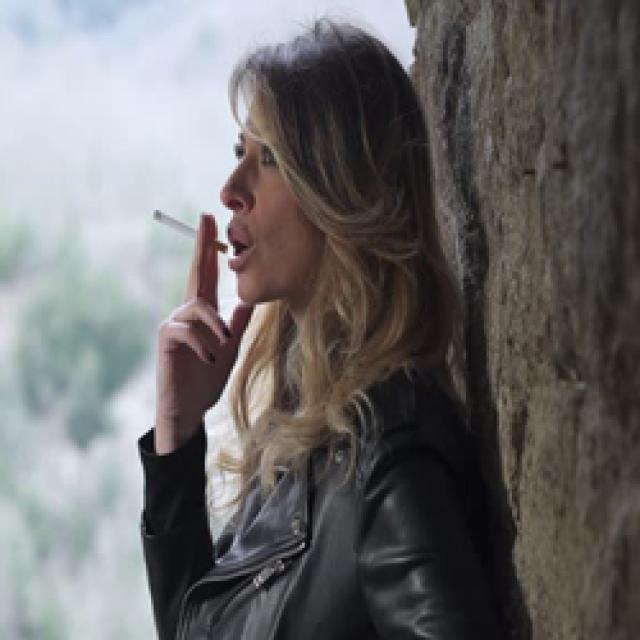Smooking: (141, 200, 231, 260)
